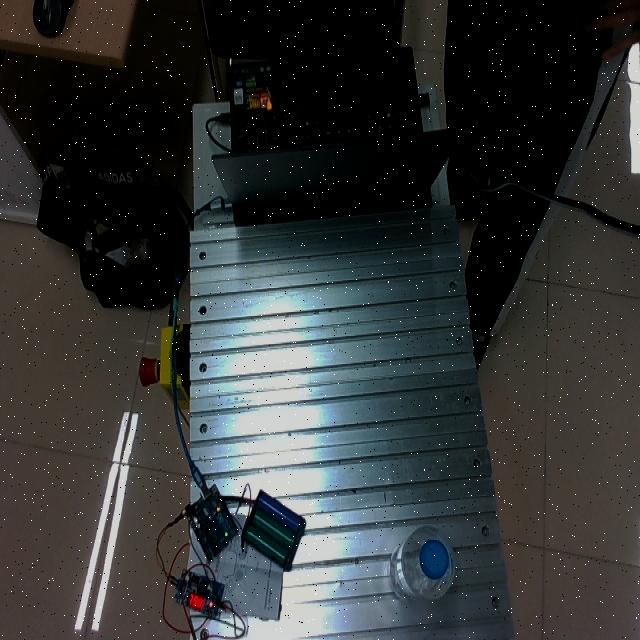lavie: (390, 523, 457, 607)
